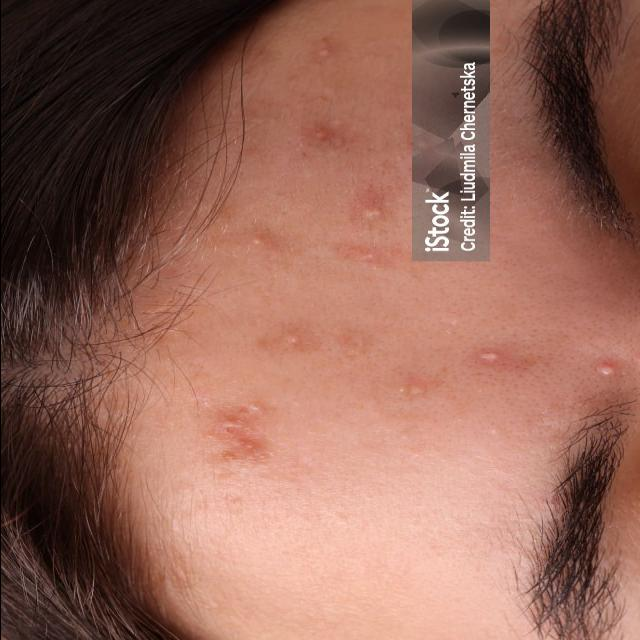papule: (198, 392, 269, 470), (290, 115, 353, 161)
pustule: (572, 329, 628, 389), (393, 373, 445, 425), (460, 339, 523, 379), (223, 217, 274, 248), (270, 315, 311, 350), (303, 30, 337, 70), (350, 200, 398, 226), (630, 266, 640, 304)
